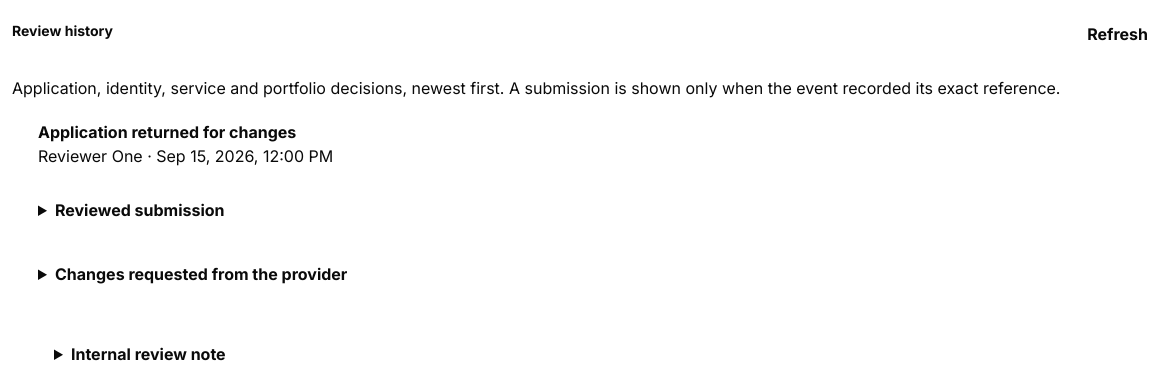
it: unified review history › hides cached private history when a refresh denies access with 401
The width and height of the screenshot is (1176, 378).
Click the button "Refresh" at (1118, 34), box [1071,12,1164,56]
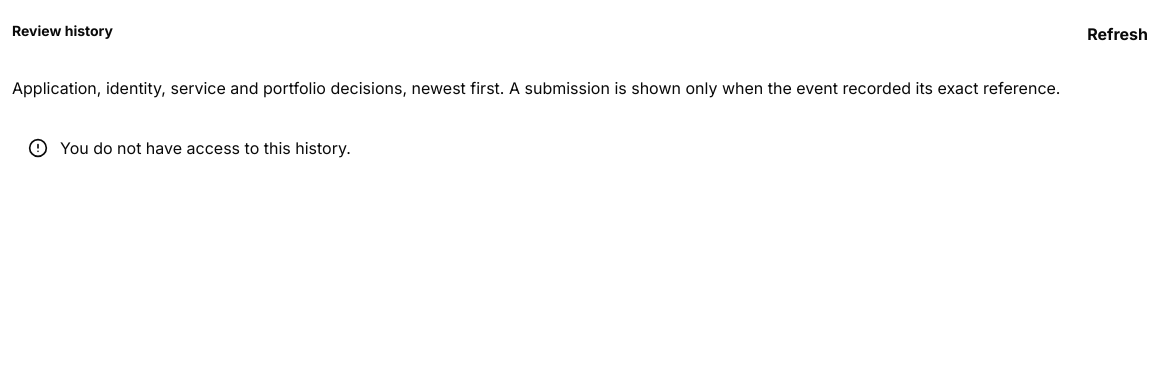
Expected: the text "Reviewer One" is gone
Expected: the message "You do not have access to this history." is shown, [28,138,351,158]
